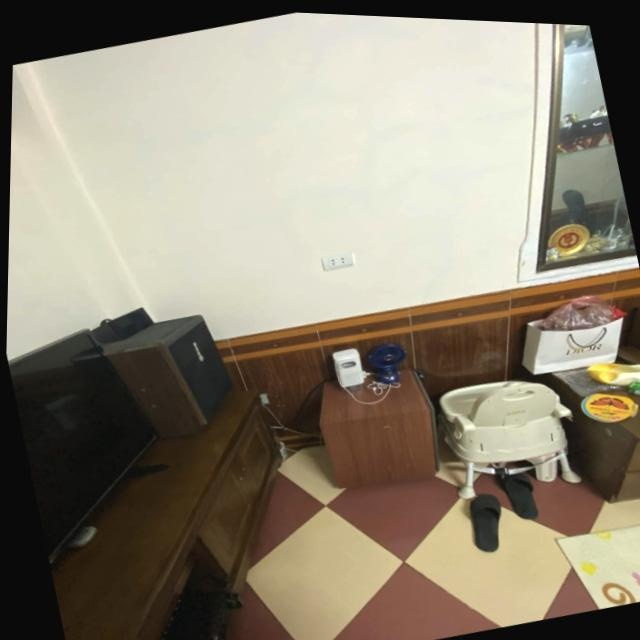outlet: (320, 250, 355, 274)
